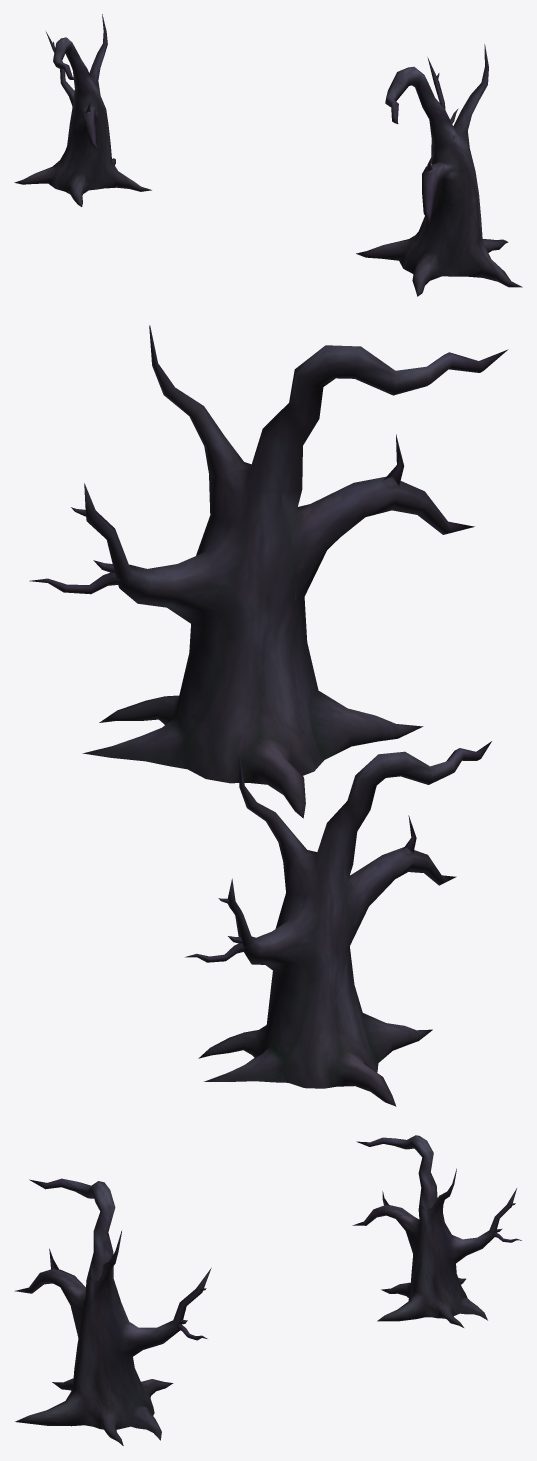
The model's file is Area12_26.fbx.
3 views of the same model, one above another, from view 1: azimuth 30°, elevation 25°; view 2: azimuth 150°, elevation 25°; view 3: azimuth 270°, elevation 25° (orthographic). The views are drawn at different scales.
Parts seen in each view (by area): view 1: Area12_26; view 2: Area12_26; view 3: Area12_26.
Part boxes in pixels (x1,y1,x2,y2): Area12_26: (14, 14, 522, 296); Area12_26: (29, 325, 508, 1106); Area12_26: (14, 1135, 521, 1445).
Size of the model in its own units: 2240 by 1395 by 3083.
